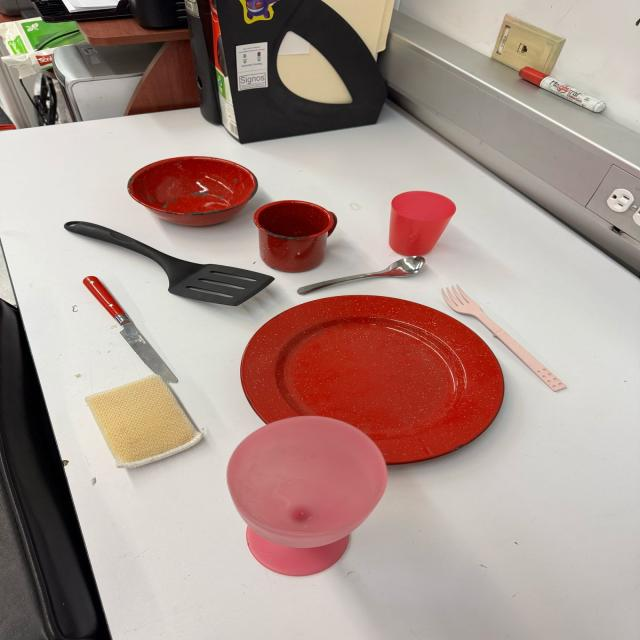cup: (254, 201, 337, 273)
fork: (443, 286, 565, 388)
glass: (389, 191, 456, 256)
knife: (80, 274, 182, 386)
plate: (237, 296, 510, 460)
spatula: (60, 218, 278, 308)
sponge: (82, 373, 207, 470)
spoon: (293, 256, 426, 295)
tazon: (126, 156, 261, 227)
wineglass: (224, 413, 386, 575)
